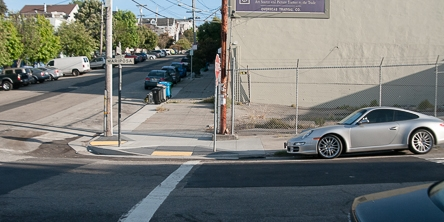Car: (282, 101, 444, 159), (45, 55, 94, 76)
